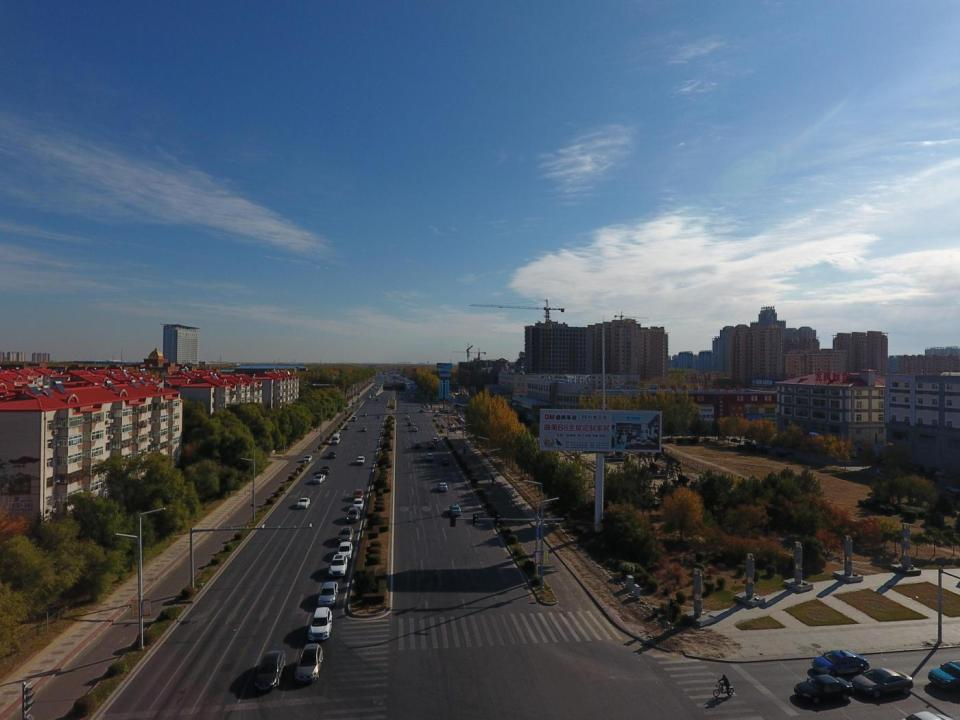bus: (331, 434, 340, 444)
car: (851, 668, 913, 700), (794, 675, 852, 705), (812, 649, 869, 678), (252, 649, 286, 690), (296, 643, 324, 682), (927, 659, 960, 691), (308, 607, 332, 640), (318, 581, 338, 606), (327, 554, 348, 577), (338, 542, 353, 559), (339, 526, 353, 542), (346, 507, 360, 523), (876, 468, 894, 479), (295, 497, 310, 508), (449, 504, 462, 515), (945, 484, 959, 494), (352, 488, 364, 499), (313, 474, 326, 484), (353, 498, 364, 509), (924, 466, 940, 473), (437, 482, 447, 492), (914, 465, 928, 472), (934, 469, 950, 475), (744, 440, 756, 447), (321, 466, 331, 474), (717, 435, 729, 441), (302, 454, 312, 461), (729, 437, 740, 443), (426, 453, 434, 460), (328, 451, 336, 458), (442, 459, 449, 466), (428, 442, 435, 449), (415, 442, 421, 448), (361, 426, 367, 432), (434, 413, 442, 417), (432, 438, 437, 444), (412, 427, 418, 432), (407, 421, 412, 427), (344, 425, 350, 430), (745, 434, 751, 438), (420, 409, 425, 412), (362, 413, 367, 416), (406, 416, 410, 419), (368, 395, 371, 397), (401, 397, 403, 399), (374, 387, 376, 389), (370, 388, 372, 390), (376, 398, 378, 400), (368, 397, 371, 398)
truck: (439, 407, 449, 413), (357, 456, 364, 464), (444, 408, 454, 413), (352, 416, 357, 421)
